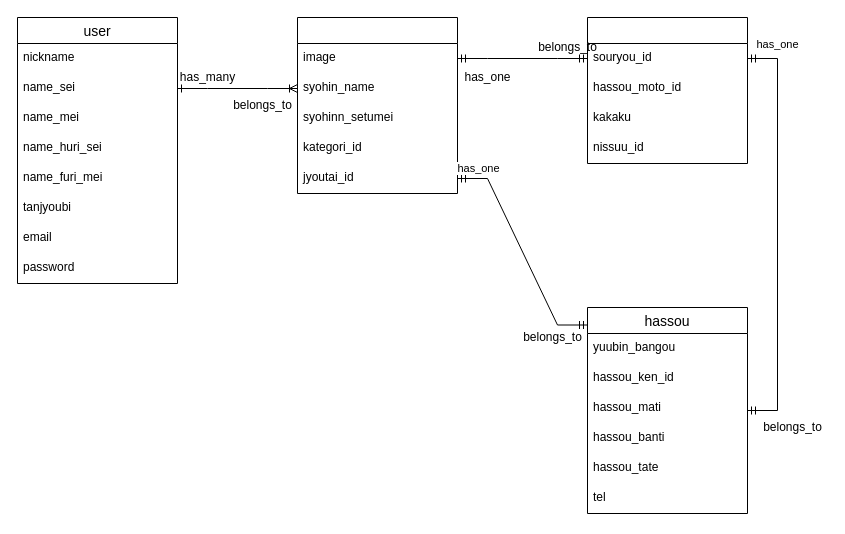
This 845x534 diagram has some shape labels left out. The shapes that lost their labels are listed below. From the top down, each one's box as (x1, y1, x2, y2) in pixels, then its label:
(296, 16, 458, 194): syouhin
(586, 16, 748, 164): kounyuu
